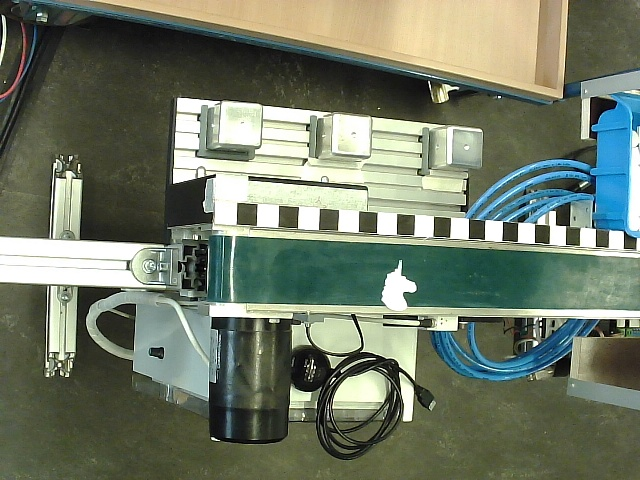unicorn: (382, 259, 418, 312)
